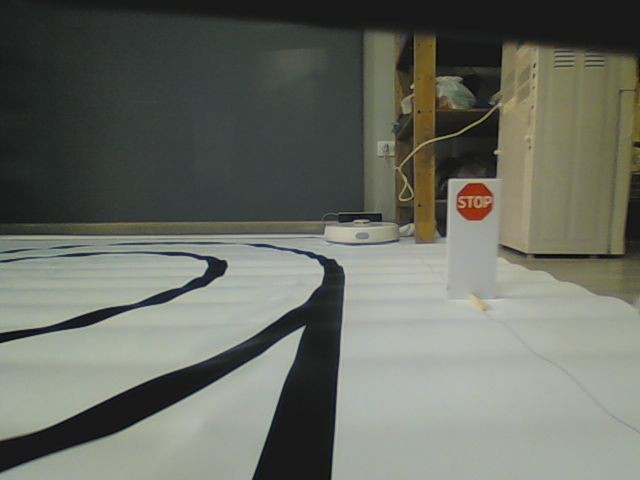Stop: (455, 181, 494, 223)
